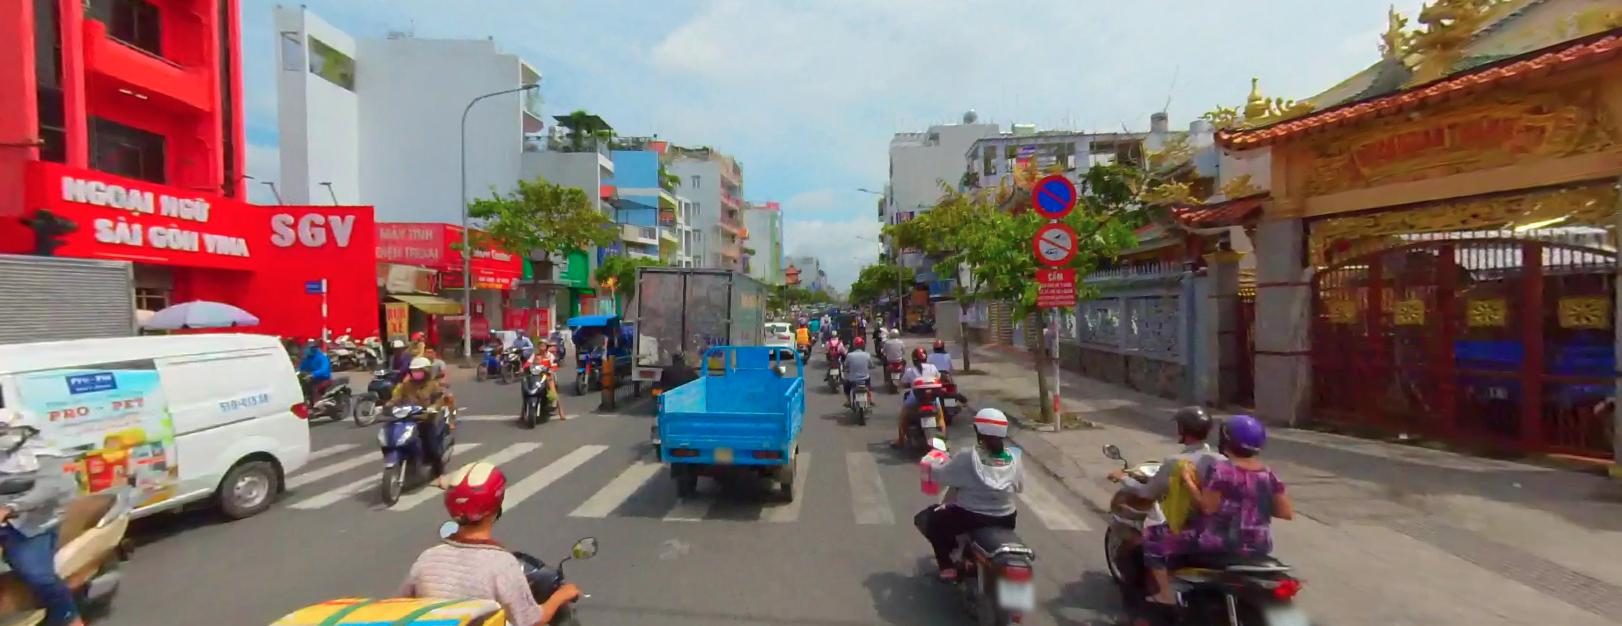Cam con lai: (1032, 221, 1077, 264)
Cam dung va do: (1030, 173, 1076, 216)
